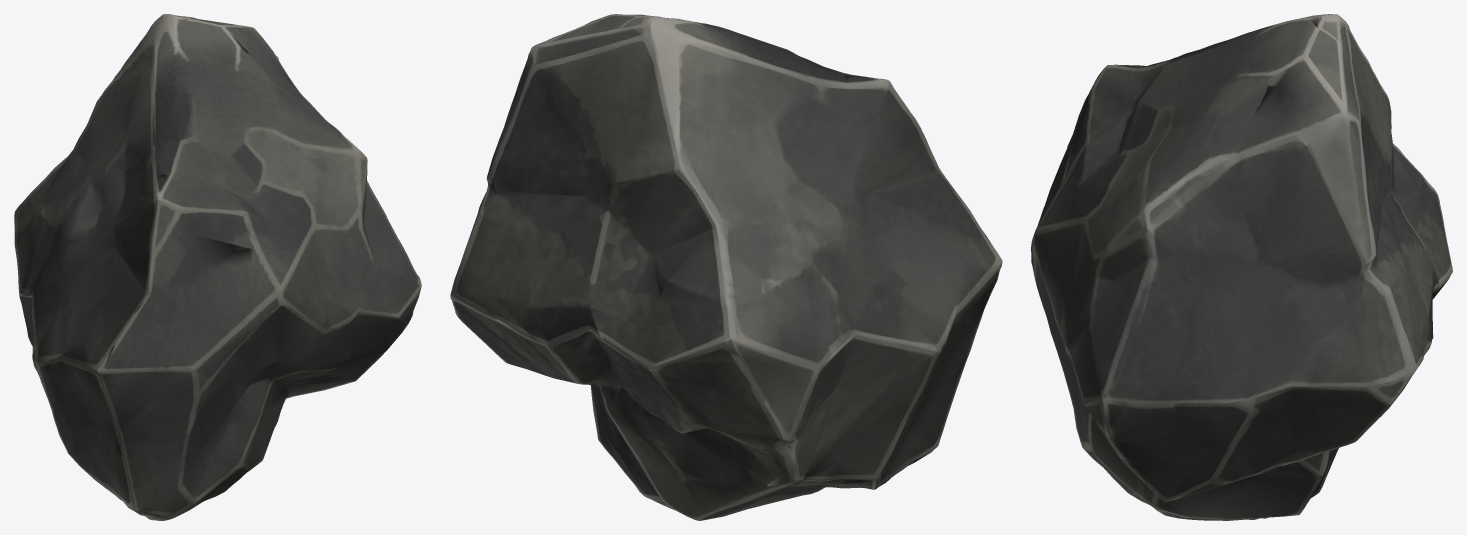
File: 08_split_fragment_lower.fbx
3 renders of one model, left to right at view 1: azimuth 30°, elevation 25°; view 2: azimuth 150°, elevation 25°; view 3: azimuth 270°, elevation 25°, orthographic. The views are drawn at different scales.
Visible parts, largest first — view 1: 08_split_fragment_lower; view 2: 08_split_fragment_lower; view 3: 08_split_fragment_lower.
Boxes of the visible parts, x1,y1,x2,y2 form: 08_split_fragment_lower: (14,14,421,520); 08_split_fragment_lower: (450,14,1002,520); 08_split_fragment_lower: (1031,14,1452,520).
Size of the model in its own units: 0.5932 by 0.7 by 0.521.
Materials: 1 (1 with a texture image).
